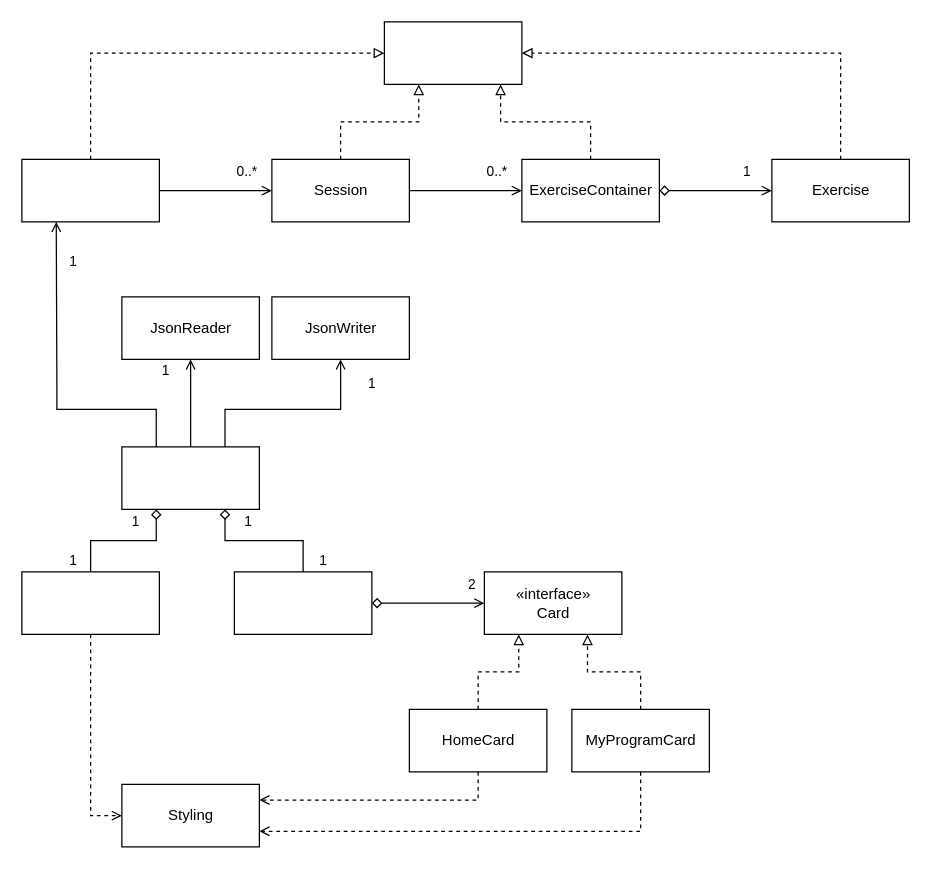
Image size: 931x869. Some labels were removed from this diagram. The shapes that lost their labels are listed below. From the top down, each one's centre as x and y in pixels, then its label:
(452,52): «interface» Writable
(90,190): WorkoutProgram
(190,477): WorkoutTrackerGUI
(90,602): SideMenu
(302,602): MainScreen
